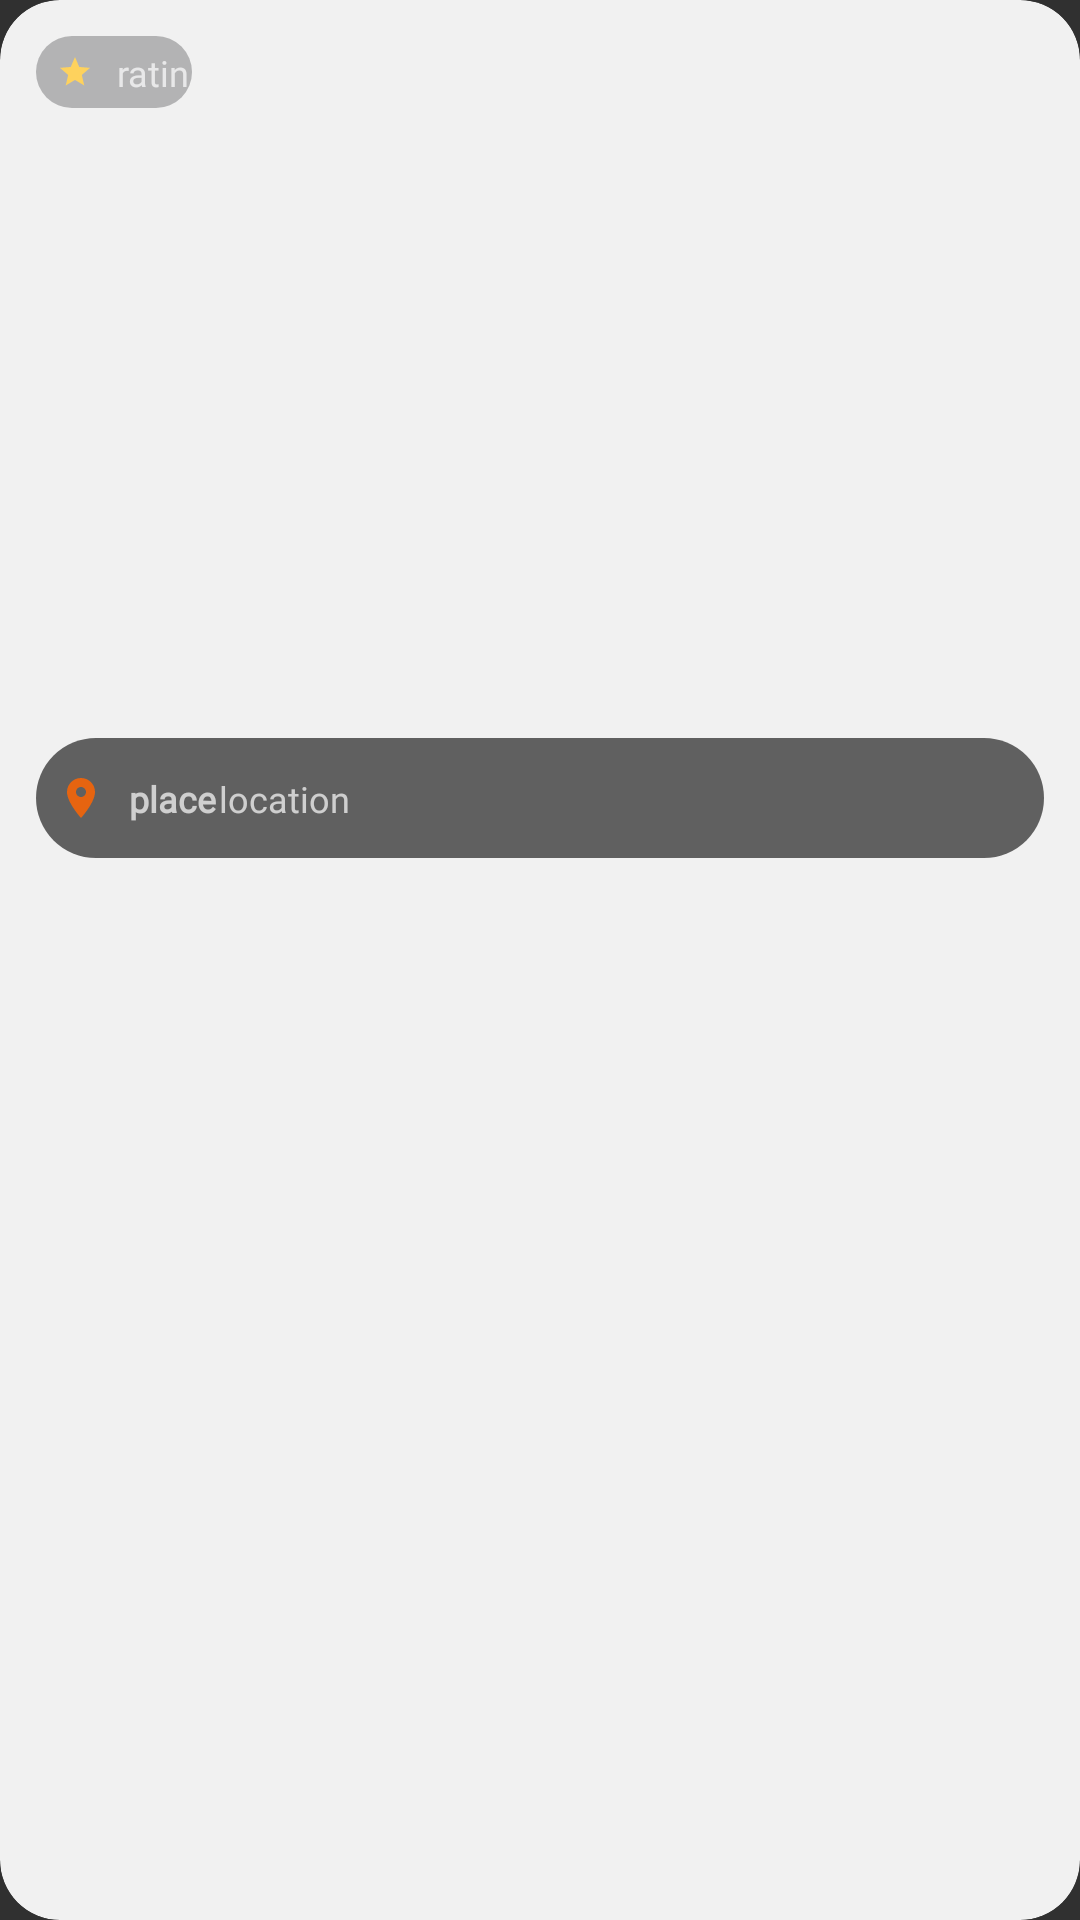

Where to tap for icons on this 1080px x 1920px app screen, as point (x, y):
star: point (75, 71)
